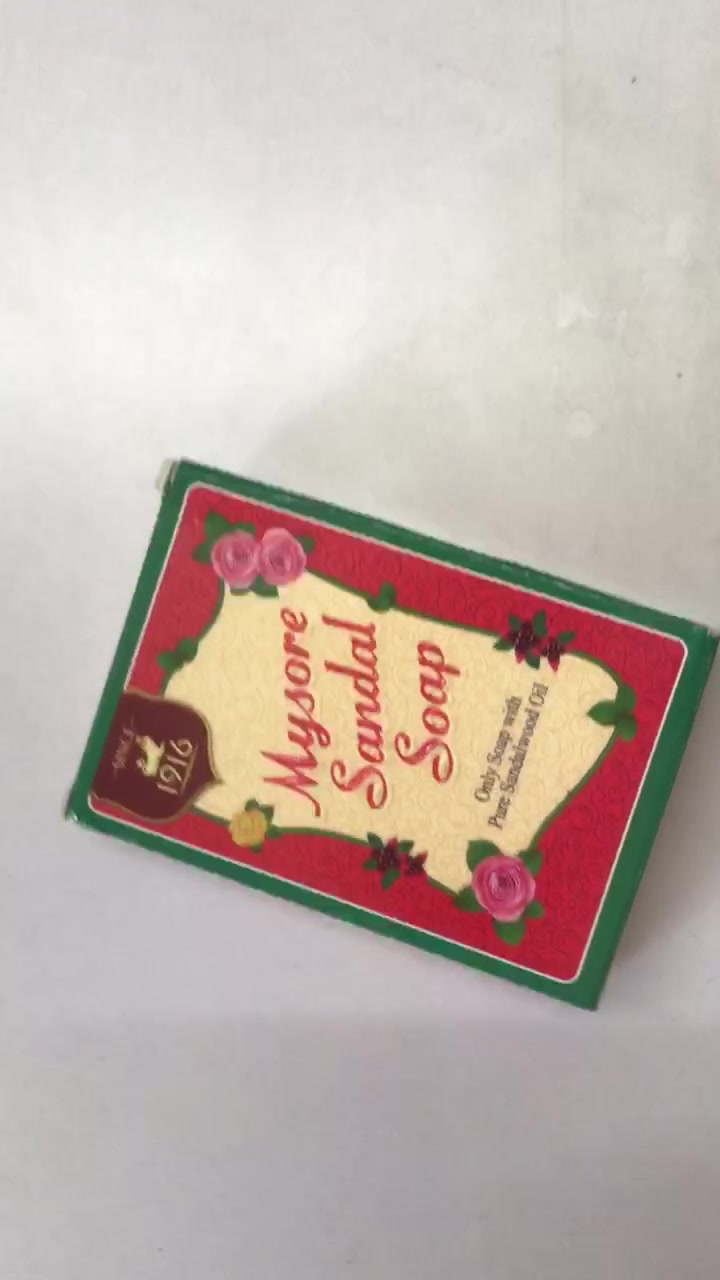mysore sandal soap: (63, 457, 720, 1016)
